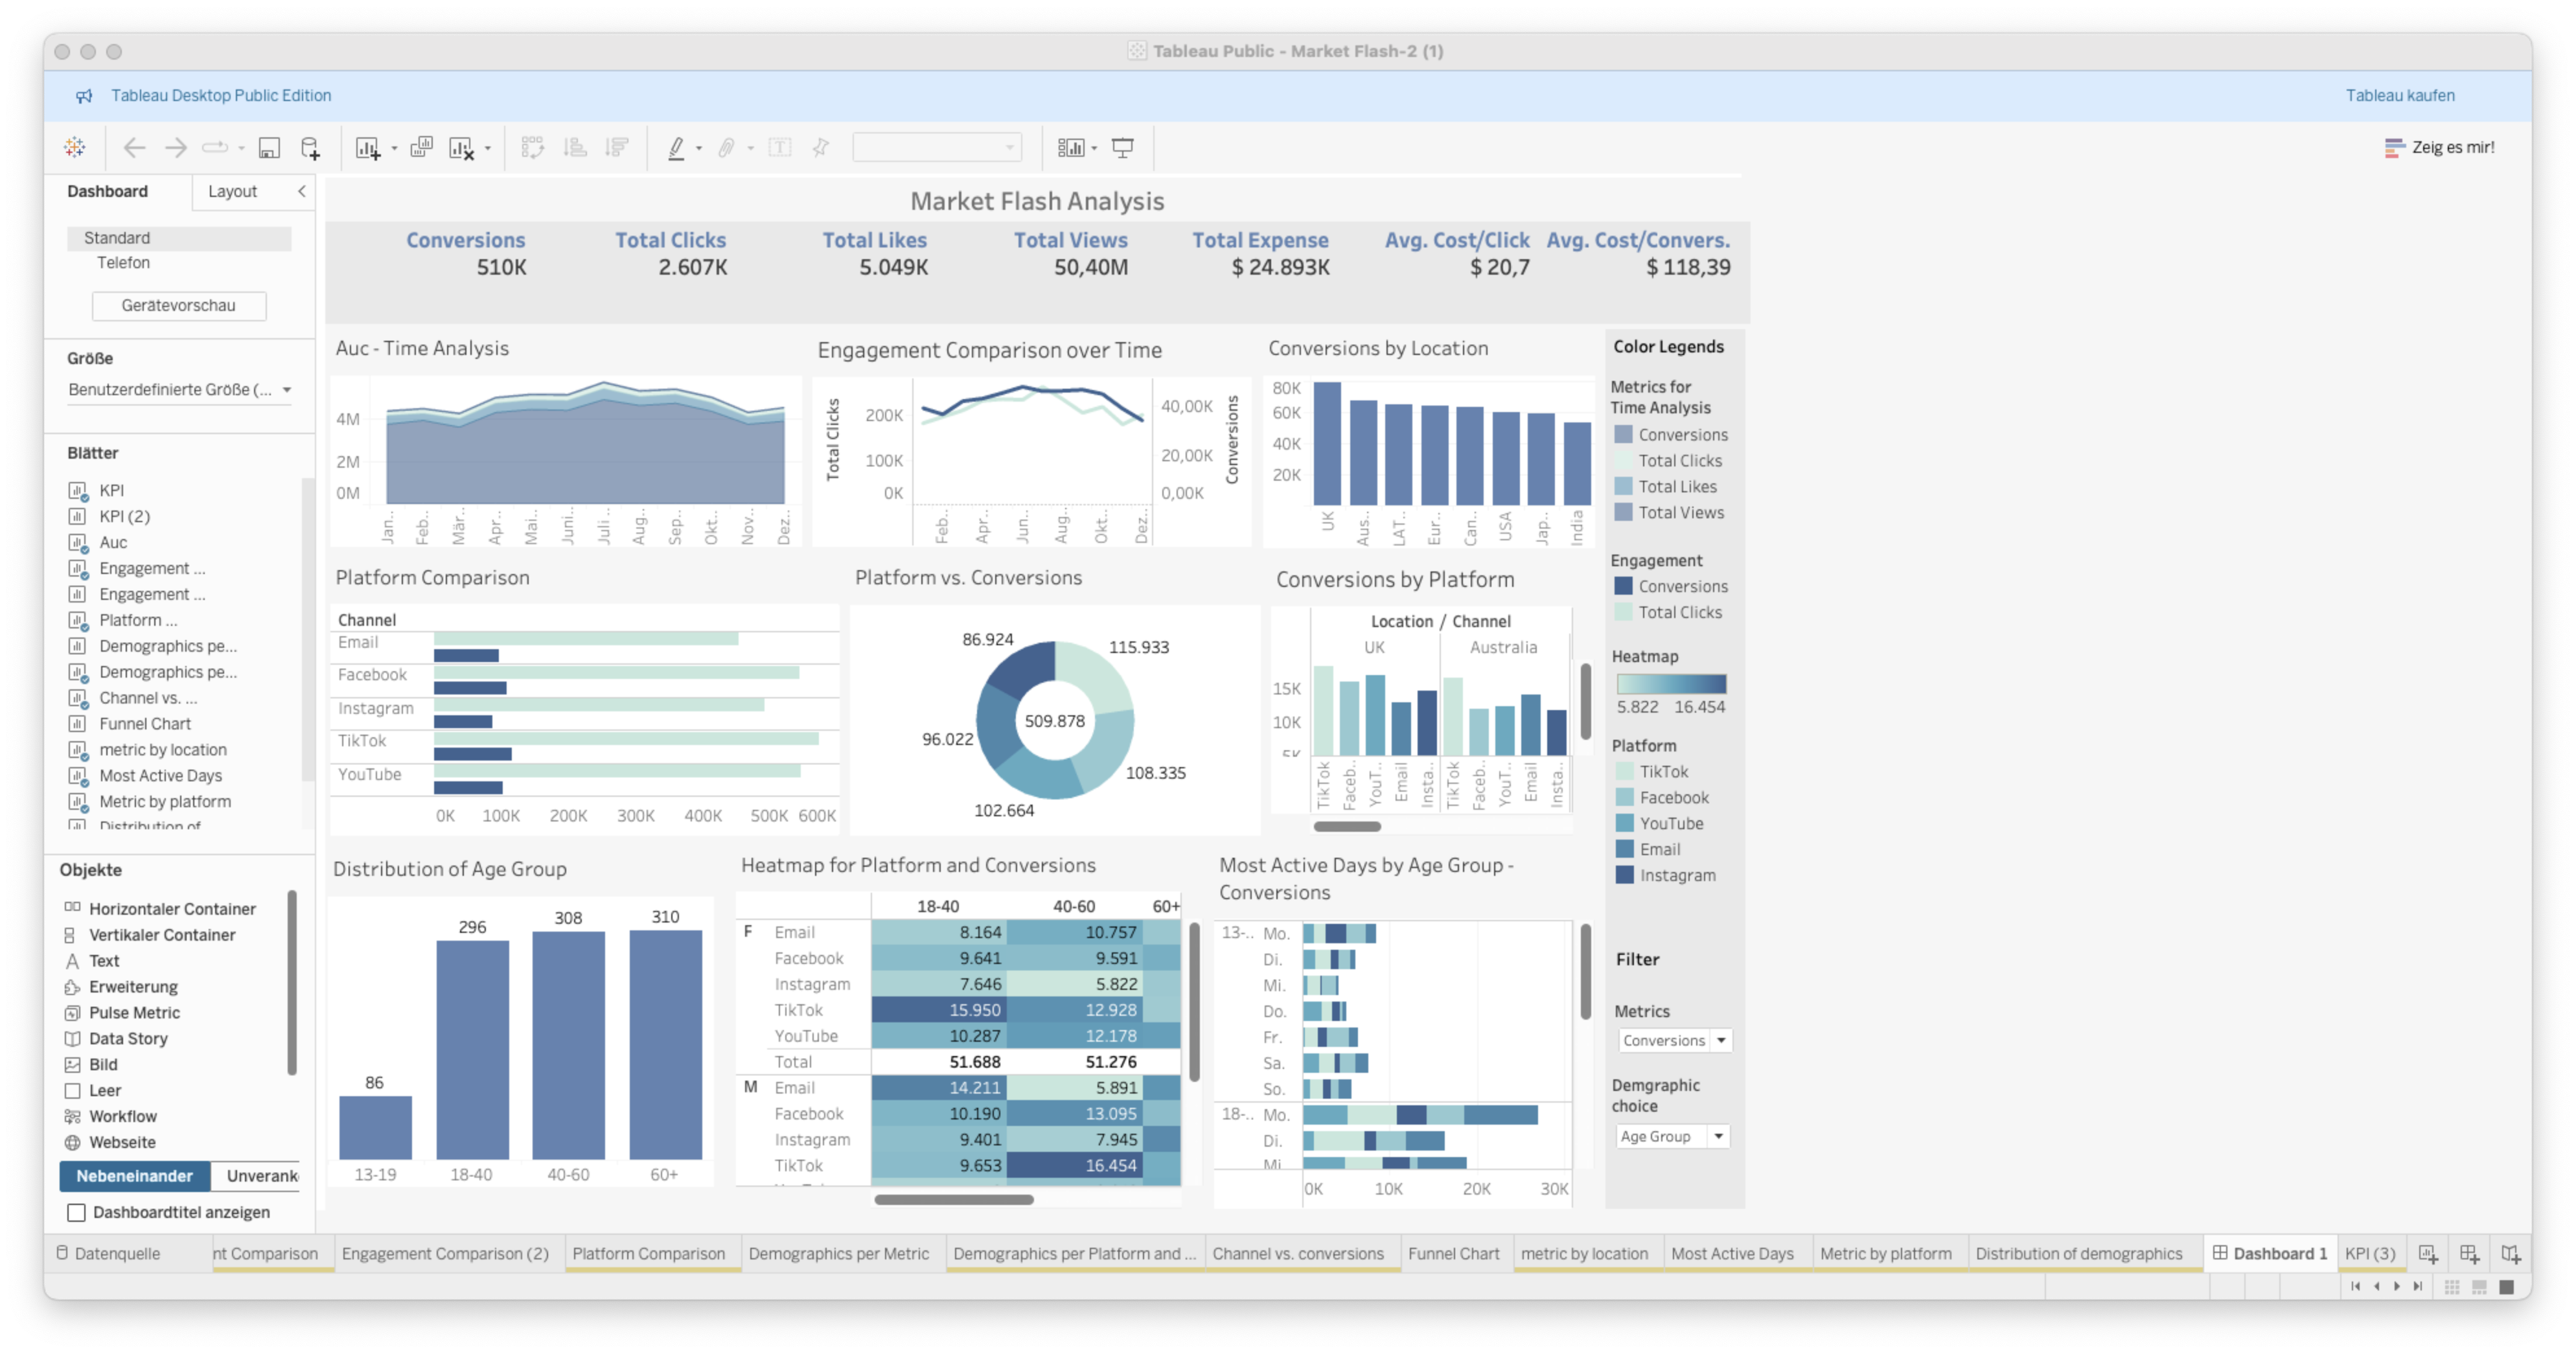

What the dashboard file says about the page in this screenshot:
{"tool":"tableau","page":{"name":"Dashboard 1","canvas":[1100,800],"ordinal":0},"visuals":[{"type":"worksheet","title":"Auc","mark":"Area","cols":["Start Date"],"box":[7,116,371.9,177]},{"type":"worksheet","title":"Engagement Comparison","mark":"Automatic","rows":["Clicks","Conversions"],"cols":["Start Date"],"box":[378.9,116,348,177]},{"type":"worksheet","title":"metric by location","mark":"Automatic","rows":["Calculation_1427430034290282496"],"cols":["Location"],"box":[726.9,116,263.9,177]},{"type":"text","box":[995,120,108,26]},{"type":"blank","box":[995,146,108,148]},{"type":"legend","title":"Auc","param":"[federated.13qg7dq1x308xx19l7krd1l60nxo].[:Measure Names]","box":[999,156,97,117]},{"type":"legend","title":"Engagement Comparison","param":"[federated.13qg7dq1x308xx19l7krd1l60nxo].[:Measure Names]","box":[999,290,102,58]},{"type":"worksheet","title":"Platform Comparison","mark":"Automatic","rows":["Channel"],"box":[7,293,401,222]},{"type":"worksheet","title":"Channel vs. conversions","mark":"Pie","rows":["Calculation_1225823582002589701","Calculation_1225823582002618375"],"box":[408,293,325,222]},{"type":"worksheet","title":"Metric by platform","mark":"Automatic","rows":["Calculation_1427430034290282496"],"cols":["Location","Channel"],"box":[733,293,258,222]},{"type":"legend","title":"Demographics per Platform and Conversions","param":"[federated.13qg7dq1x308xx19l7krd1l60nxo].[usr:Calculation_1427430034290282496:qk","box":[1000,364,93,76]},{"type":"legend","title":"Channel vs. conversions","param":"[federated.13qg7dq1x308xx19l7krd1l60nxo].[none:Channel:nk]","box":[1000,433,98,118]},{"type":"worksheet","title":"Demographics per Platform and Conversions","mark":"Square","rows":["Calculation_1090645224402731010","Channel"],"cols":["Calculation_1090645224399503360"],"box":[320,515,368.7,288]},{"type":"worksheet","title":"Most Active Days ","mark":"Bar","rows":["Calculation_1698631174429896704","Start Date"],"cols":["Calculation_1427430034290282496"],"box":[688.7,515,302.3,288]},{"type":"worksheet","title":"Distribution of demographics","mark":"Automatic","rows":["Campaign Number"],"cols":["Calculation_1698631174429896704"],"box":[9,522,298,260]},{"type":"text","box":[1001,584,94,44]},{"type":"parameter","param":"[Parameters].[Parameter 1]","box":[1002,638,95,44]},{"type":"parameter","param":"[Parameters].[Parameter 3]","box":[1000,695,95,66]}]}

Visuals, with their boxes on the page's 1100x800 design canvas (x1, y1, x2, y2). These are canvas units, not pixel positions in the 2576x1354 screenshot, which may show the page scaled, cropped or inside an application window:
"Auc" worksheet (Area marks): left=7, top=116, right=379, bottom=293
"Engagement Comparison" worksheet: left=379, top=116, right=727, bottom=293
"metric by location" worksheet: left=727, top=116, right=991, bottom=293
text: left=995, top=120, right=1103, bottom=146
blank: left=995, top=146, right=1103, bottom=294
"Auc" legend: left=999, top=156, right=1096, bottom=273
"Engagement Comparison" legend: left=999, top=290, right=1101, bottom=348
"Platform Comparison" worksheet: left=7, top=293, right=408, bottom=515
"Channel vs. conversions" worksheet (Pie marks): left=408, top=293, right=733, bottom=515
"Metric by platform" worksheet: left=733, top=293, right=991, bottom=515
"Demographics per Platform and Conversions" legend: left=1000, top=364, right=1093, bottom=440
"Channel vs. conversions" legend: left=1000, top=433, right=1098, bottom=551
"Demographics per Platform and Conversions" worksheet (Square marks): left=320, top=515, right=689, bottom=803
"Most Active Days " worksheet (Bar marks): left=689, top=515, right=991, bottom=803
"Distribution of demographics" worksheet: left=9, top=522, right=307, bottom=782
text: left=1001, top=584, right=1095, bottom=628
parameter: left=1002, top=638, right=1097, bottom=682
parameter: left=1000, top=695, right=1095, bottom=761
